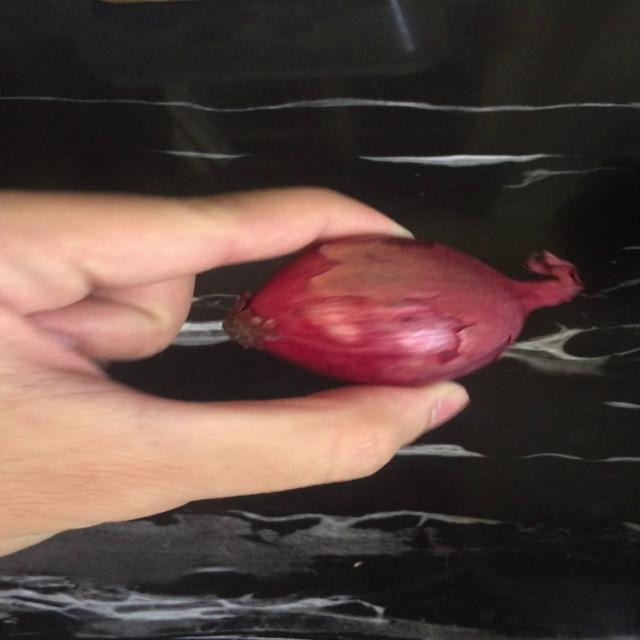Onion: (222, 236, 581, 386)
